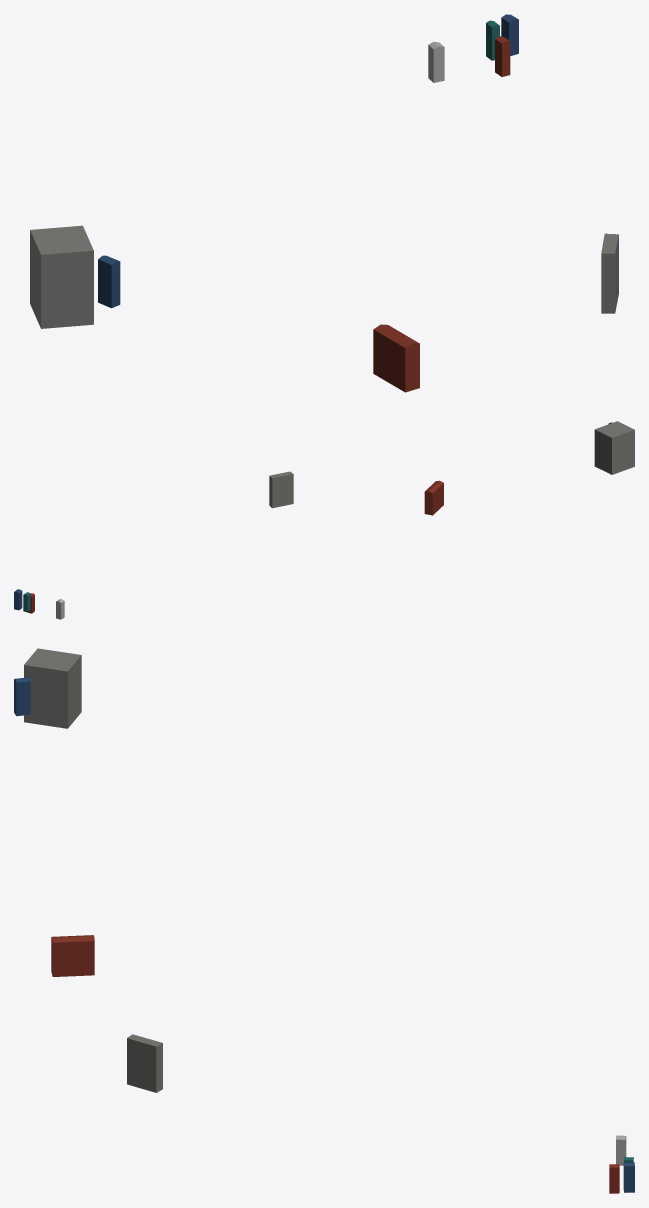
The model's file is near-15-27372-14867.8be5aac4.glb.
The picture shows the model from 3 angles, top to bottom: view 1: azimuth 30°, elevation 25°; view 2: azimuth 150°, elevation 25°; view 3: azimuth 270°, elevation 25°; orthographic projection. The views are drawn at different scales.
Bounding box in the file's own units: 366 × 120 × 296.
